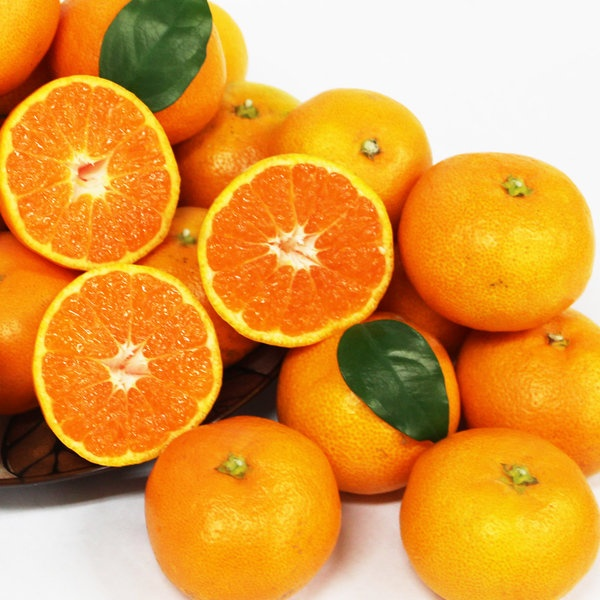mandarin: (30, 263, 223, 465), (197, 154, 396, 349), (145, 415, 343, 600), (396, 153, 598, 332), (1, 74, 184, 267), (400, 424, 600, 599), (283, 311, 462, 496), (54, 1, 228, 144), (458, 309, 600, 477), (275, 86, 434, 215), (138, 206, 254, 368), (1, 225, 90, 415), (173, 84, 303, 206), (1, 1, 62, 89)
